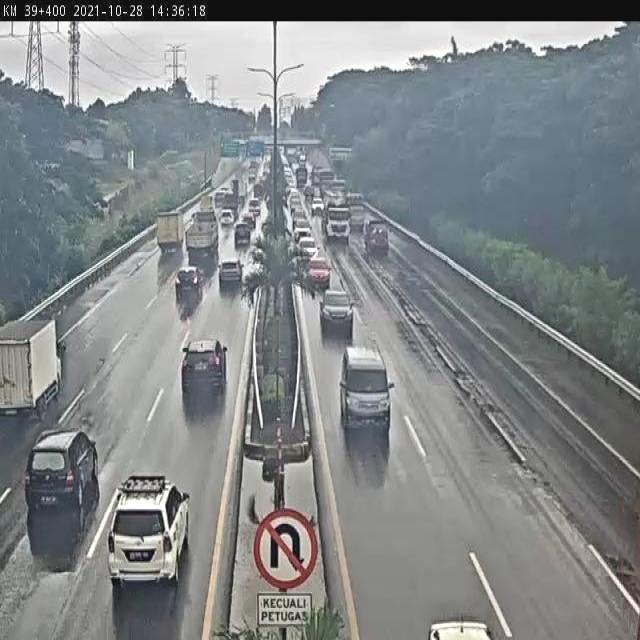Car: (107, 477, 190, 592), (24, 428, 100, 538), (338, 346, 393, 432), (180, 336, 227, 402), (319, 288, 354, 337), (429, 618, 495, 640), (324, 204, 352, 243), (175, 266, 202, 303), (364, 221, 390, 257), (306, 255, 331, 290), (218, 258, 243, 288), (348, 200, 366, 232), (297, 236, 318, 262), (234, 222, 252, 248), (220, 208, 234, 226), (312, 198, 324, 218)
Truck: (0, 317, 64, 415), (185, 210, 219, 254), (155, 210, 184, 249)
